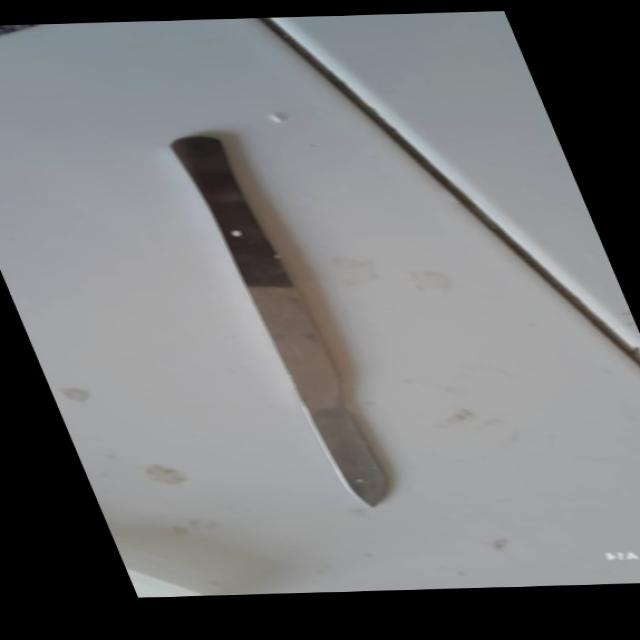Knife: (156, 128, 408, 510)
